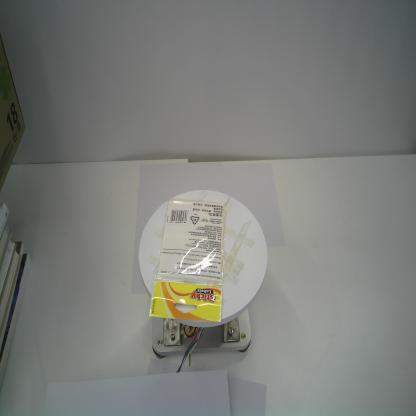Stationery: (147, 195, 228, 325)
